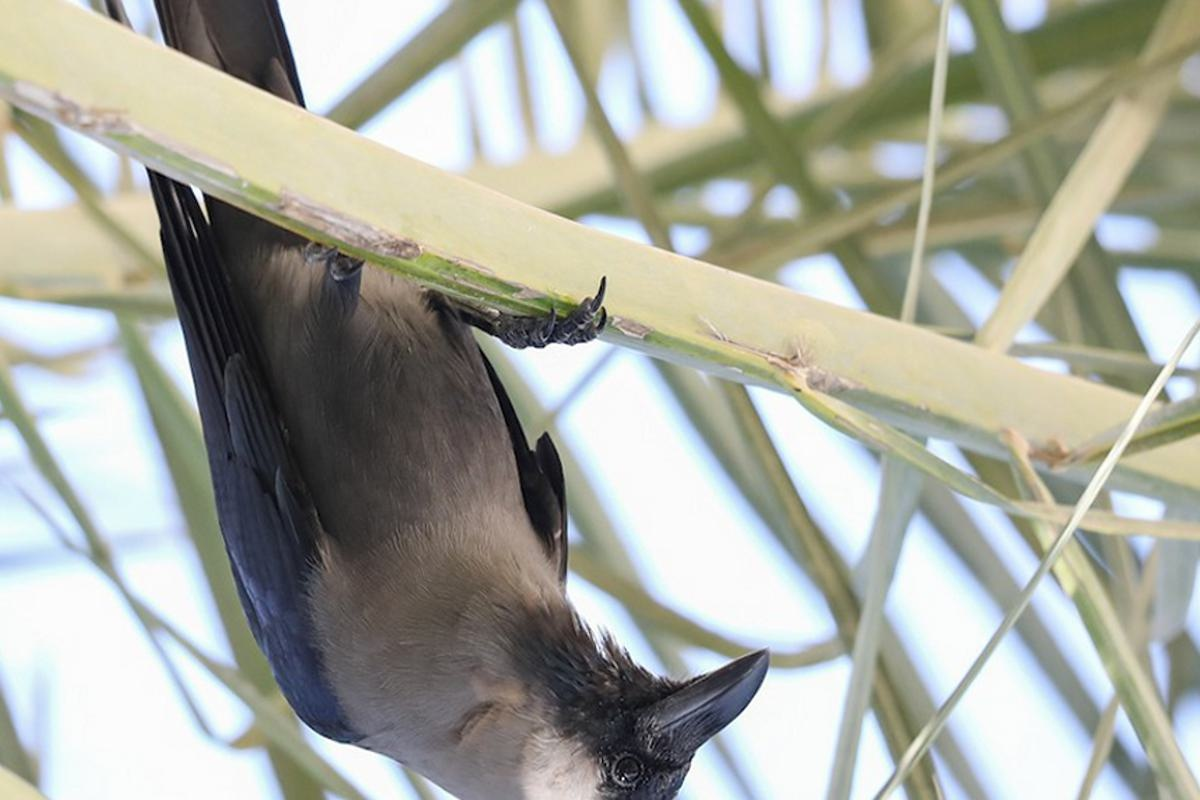crow: (107, 101, 778, 793)
